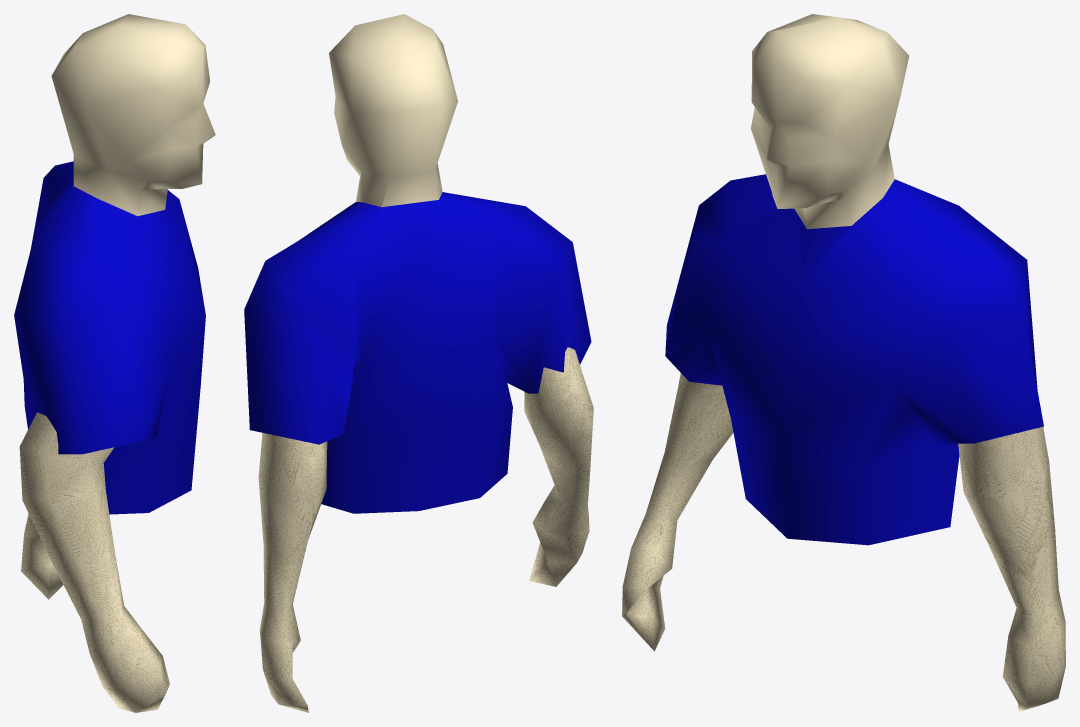
The model's file is Man_from_above.dae.
3 renders of one model, left to right at view 1: azimuth 30°, elevation 25°; view 2: azimuth 150°, elevation 25°; view 3: azimuth 270°, elevation 25°, orthographic. The views are drawn at different scales.
Visible parts, largest first — view 1: shirt-3, mhead-3, Component_6, Component_5; view 2: shirt-3, mhead-3, Component_5, Component_6; view 3: shirt-3, mhead-3, Component_5, Component_6.
Part boxes in pixels (box(x1,y1,x2,y2)): shirt-3: box(14, 161, 205, 514); mhead-3: box(51, 14, 215, 216); Component_6: box(19, 412, 169, 712); Component_5: box(21, 513, 63, 599); shirt-3: box(244, 192, 591, 513); mhead-3: box(329, 14, 457, 207); Component_5: box(258, 433, 327, 712); Component_6: box(524, 347, 593, 586); shirt-3: box(665, 174, 1043, 545); mhead-3: box(751, 14, 909, 229); Component_5: box(958, 427, 1065, 712); Component_6: box(622, 373, 733, 651).
Bounding box in the file's own units: 17.55 × 24.77 × 42.43.
